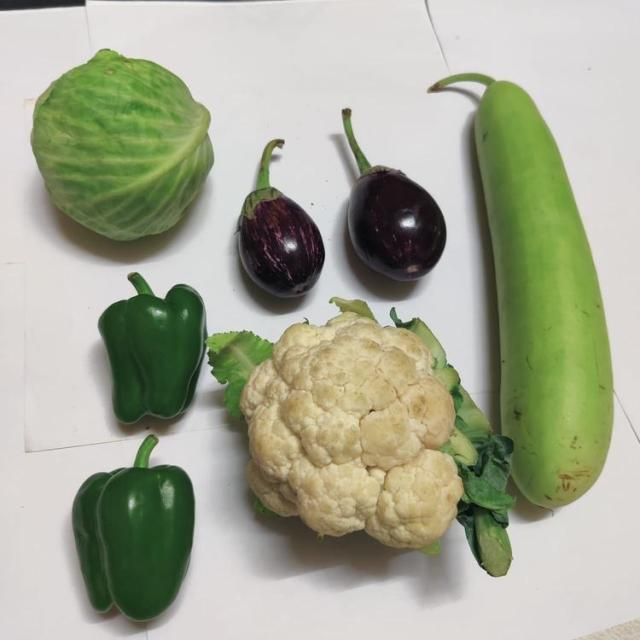Organik: (235, 303, 477, 549), (481, 81, 617, 511), (29, 48, 215, 243), (239, 133, 446, 294), (74, 435, 200, 624), (99, 276, 207, 426)
